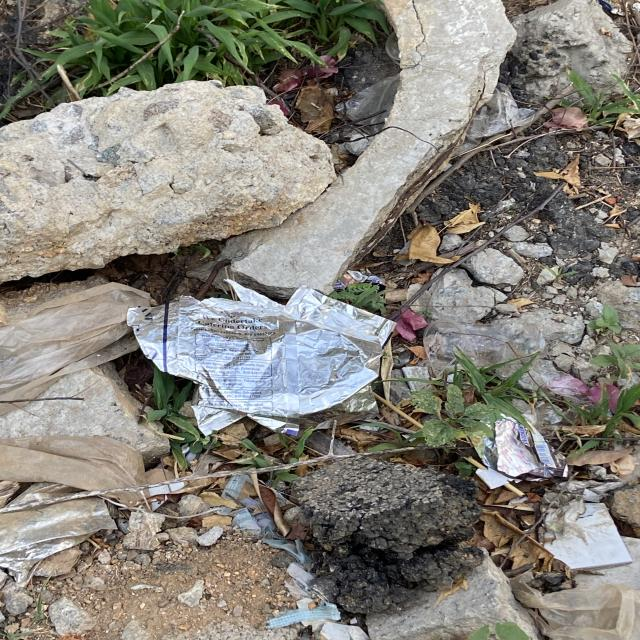giay: (495, 419, 541, 478)
giay_goi: (518, 424, 566, 471)
hop_nhua: (423, 318, 546, 376)
nhom: (126, 279, 395, 435)
nhua: (0, 283, 155, 440), (511, 576, 640, 640), (0, 434, 144, 491), (0, 499, 113, 562), (460, 82, 536, 151), (335, 73, 400, 124)
